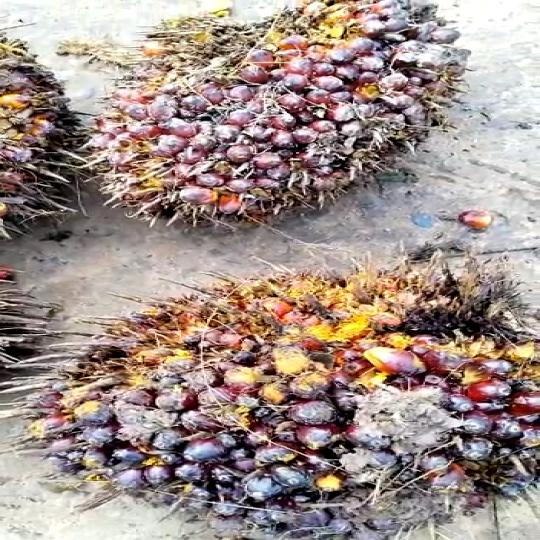masak: (19, 245, 540, 540), (69, 0, 501, 239)
